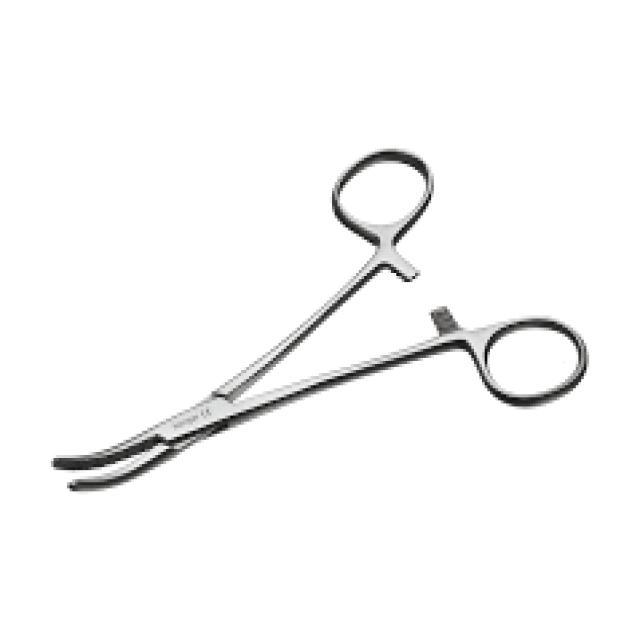Artery Forceps: (43, 140, 596, 500)
